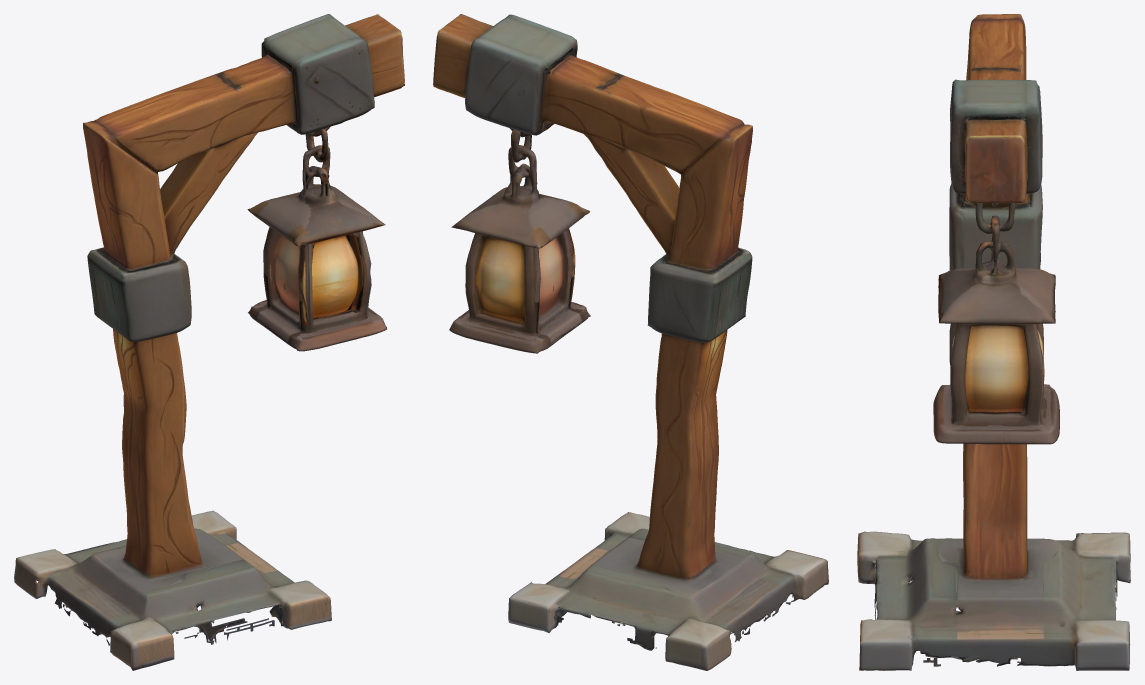
The model's file is Lantern_Glow.compressed.glb.
3 renders of one model, left to right at view 1: azimuth 30°, elevation 25°; view 2: azimuth 150°, elevation 25°; view 3: azimuth 270°, elevation 25°, orthographic. The views are drawn at different scales.
Size of the model in its own units: 1.26 by 2 by 0.8163.
Materials: 1 (1 with a texture image).
